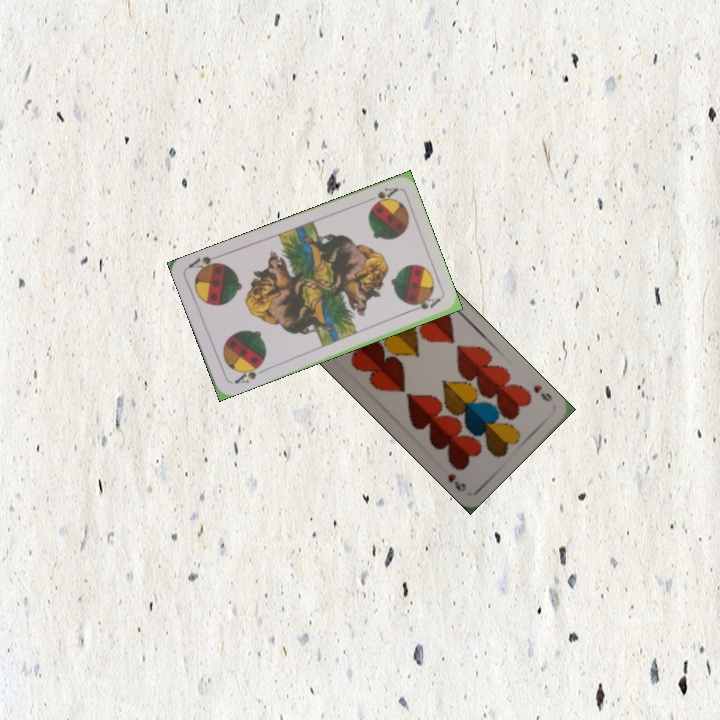H9: (530, 381, 554, 404)
SA: (230, 359, 267, 386), (367, 184, 400, 209)
